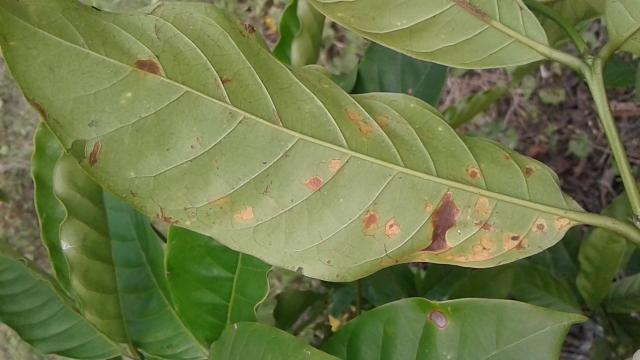rust_level_2: (1, 0, 596, 280)
